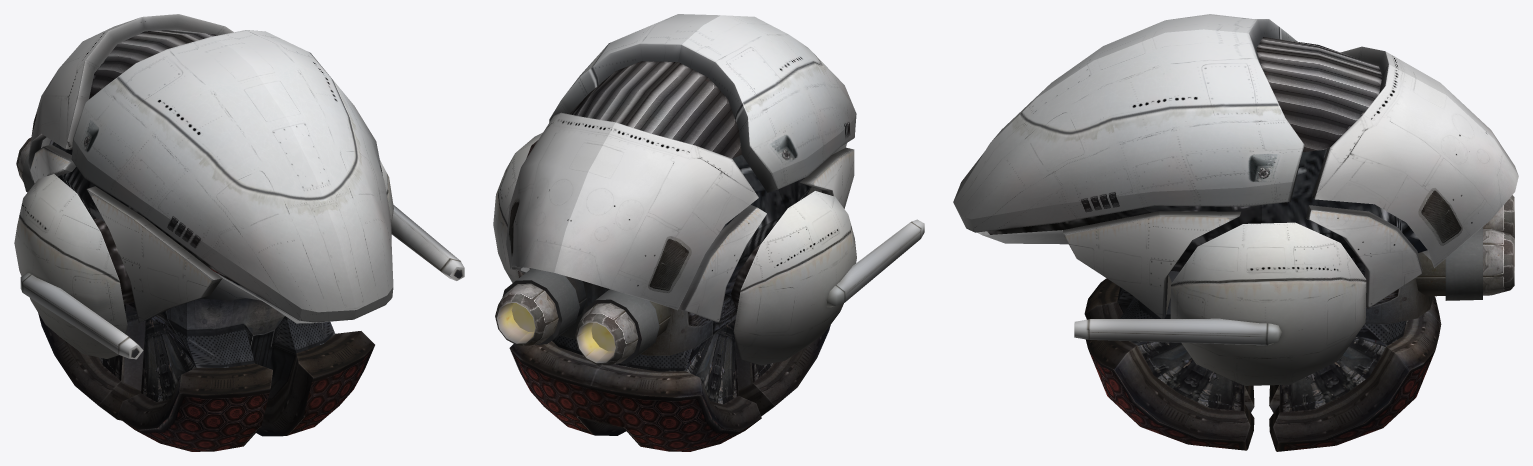
File: ship zup.dae
3 views of the same model, side by side, from view 1: azimuth 30°, elevation 25°; view 2: azimuth 150°, elevation 25°; view 3: azimuth 270°, elevation 25° (orthographic). The views are drawn at different scales.
Parts seen in each view (by area): view 1: Ship; view 2: Ship; view 3: Ship.
Part boxes in pixels (x1,y1,x2,y2): Ship: [14, 14, 464, 451]; Ship: [493, 14, 924, 451]; Ship: [953, 14, 1518, 451].
Size of the model in its own units: 7.09 by 9.54 by 7.38.
